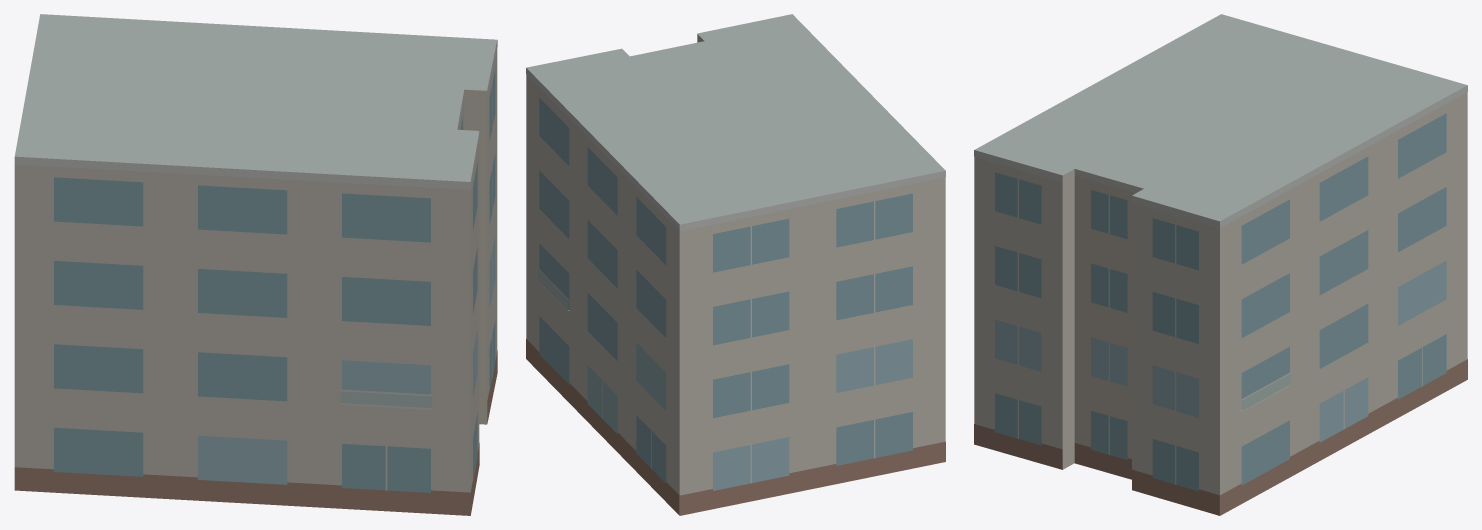
The model's file is survey-upis-33027113.glb.
The picture shows the model from 3 angles, left to right: view 1: azimuth 30°, elevation 25°; view 2: azimuth 150°, elevation 25°; view 3: azimuth 270°, elevation 25°; orthographic projection. The views are drawn at different scales.
Visible parts, largest first — view 1: survey-upis-33027113.tmp; view 2: survey-upis-33027113.tmp; view 3: survey-upis-33027113.tmp.
Boxes of the visible parts, x1,y1,x2,y2 form: survey-upis-33027113.tmp: [14, 14, 497, 515]; survey-upis-33027113.tmp: [526, 14, 945, 515]; survey-upis-33027113.tmp: [974, 14, 1467, 515].
Bounding box in the file's own units: 15.95 × 10.55 × 16.03.
